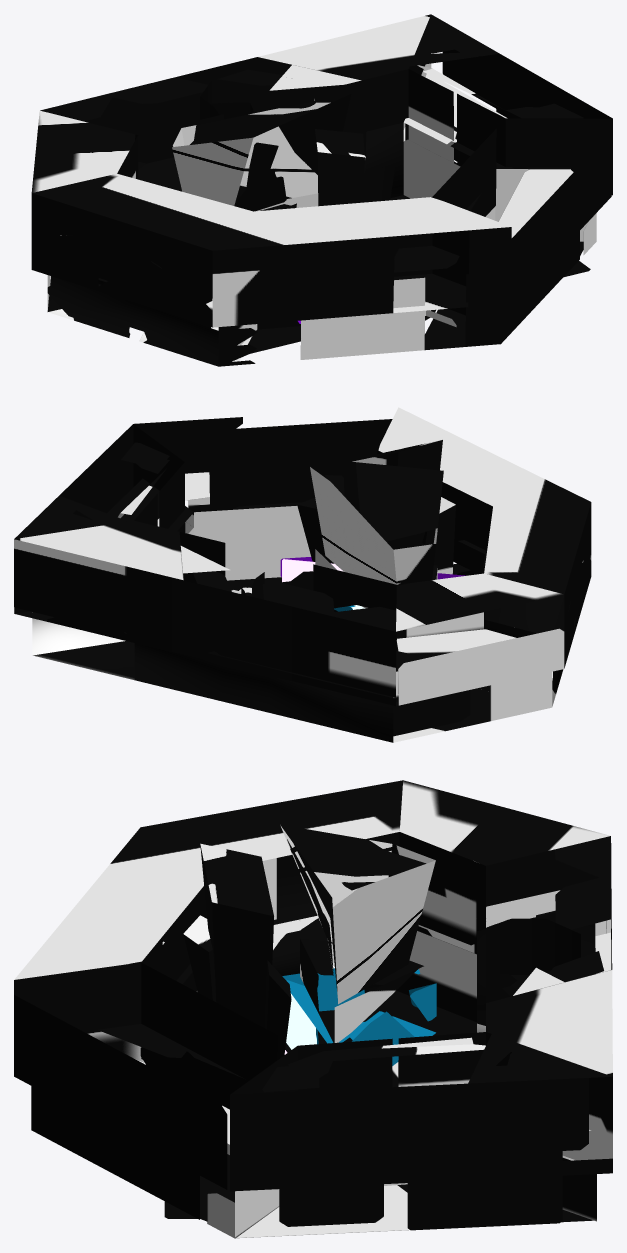
Rendered from level_a_floor.fbx.
3 views of the same model, one above another, from view 1: azimuth 30°, elevation 25°; view 2: azimuth 150°, elevation 25°; view 3: azimuth 270°, elevation 25° (orthographic). The views are drawn at different scales.
Visible parts, largest first — view 1: level_a_wall6, level_a_wall5, level_a_build1, level_a_build2, level_a_floor; view 2: level_a_wall6, level_a_wall5, level_a_build1, level_a_build2; view 3: level_a_wall6, level_a_wall5, level_a_build1, level_a_build2, level_a_floor.
Boxes of the visible parts, box(x1,y1,x2,y2) form: level_a_wall6: box(31, 14, 612, 327); level_a_wall5: box(47, 74, 596, 366); level_a_build1: box(172, 93, 351, 211); level_a_build2: box(298, 129, 395, 323); level_a_floor: box(248, 195, 590, 353); level_a_wall6: box(14, 407, 591, 706); level_a_wall5: box(32, 472, 564, 742); level_a_build1: box(308, 457, 443, 611); level_a_build2: box(280, 440, 465, 582); level_a_wall6: box(14, 780, 612, 1191); level_a_wall5: box(31, 868, 596, 1238); level_a_build1: box(280, 824, 436, 1065); level_a_build2: box(183, 843, 291, 1059); level_a_floor: box(164, 990, 476, 1218).
Size of the model in its own units: 12.47 by 3.98 by 10.03.
7 materials, 7 textured.
